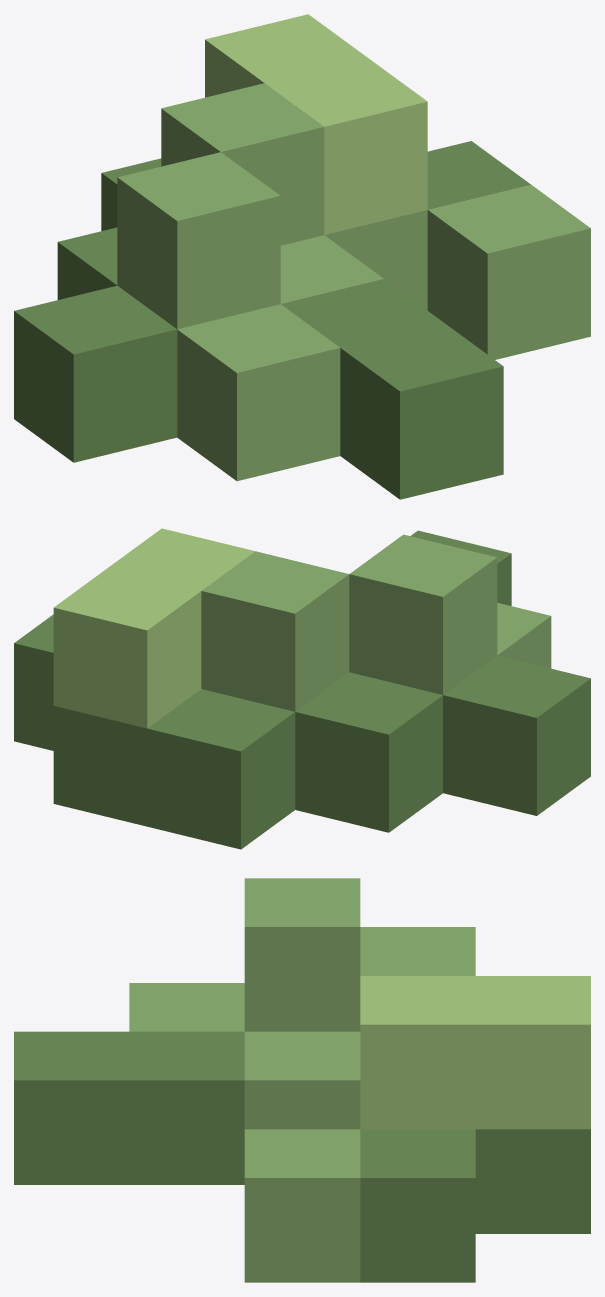
The picture shows the model from 3 angles, top to bottom: view 1: azimuth 30°, elevation 25°; view 2: azimuth 150°, elevation 25°; view 3: azimuth 270°, elevation 25°; orthographic projection. The views are drawn at different scales.
Visible parts, largest first — view 1: moss_tree_base_M, moss_tree_base_D, moss_tree_base_L; view 2: moss_tree_base_D, moss_tree_base_M, moss_tree_base_L; view 3: moss_tree_base_D, moss_tree_base_M, moss_tree_base_L.
Boxes of the visible parts, bbox=[...] form: moss_tree_base_M: bbox=[117, 83, 590, 481]; moss_tree_base_D: bbox=[14, 141, 530, 499]; moss_tree_base_L: bbox=[205, 14, 427, 234]; moss_tree_base_D: bbox=[14, 530, 590, 849]; moss_tree_base_M: bbox=[201, 534, 551, 711]; moss_tree_base_L: bbox=[53, 528, 255, 728]; moss_tree_base_D: bbox=[14, 1031, 590, 1282]; moss_tree_base_M: bbox=[129, 878, 475, 1282]; moss_tree_base_L: bbox=[360, 976, 590, 1129].
Size of the model in its own units: 0.5 by 0.2 by 0.5.
